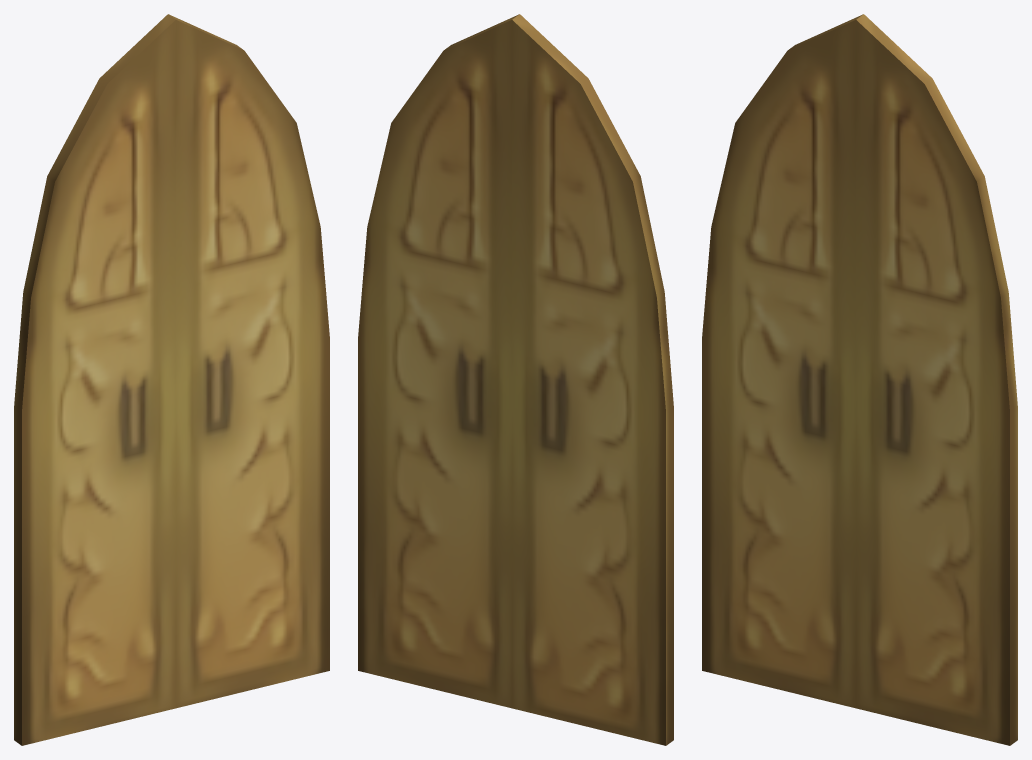
Rendered from church_Door_HD.fbx.
The picture shows the model from 3 angles, left to right: view 1: azimuth 30°, elevation 25°; view 2: azimuth 150°, elevation 25°; view 3: azimuth 330°, elevation 25°; orthographic projection.
Visible parts, largest first — view 1: door_L, door_R; view 2: door_L, door_R; view 3: door_R, door_L.
Part boxes in pixels (x1,y1,x2,y2): door_L: (14, 14, 175, 745); door_R: (169, 14, 329, 708); door_L: (512, 14, 673, 745); door_R: (358, 14, 518, 708); door_R: (856, 14, 1017, 745); door_L: (702, 14, 862, 708).
Bounding box in the file's own units: 0.8626 × 1.84 × 0.0379.
